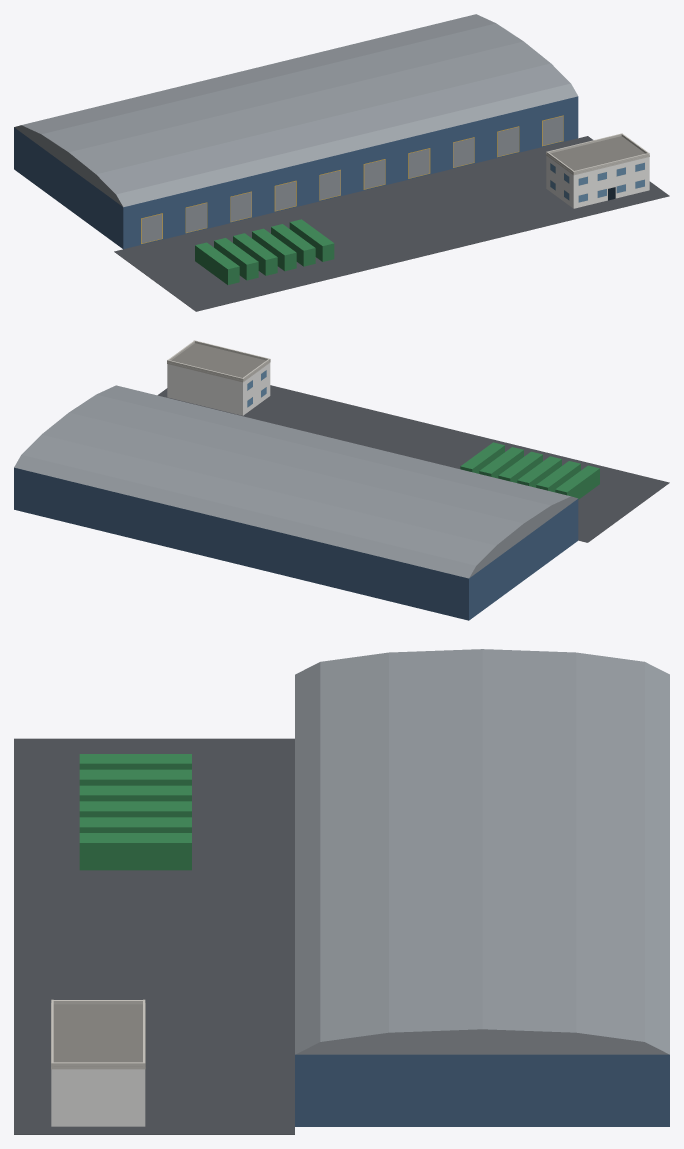
Rendered from depot_bus.glb.
3 views of the same model, one above another, from view 1: azimuth 30°, elevation 25°; view 2: azimuth 150°, elevation 25°; view 3: azimuth 270°, elevation 25° (orthographic). The views are drawn at different scales.
Visible parts, largest first — view 1: depot_bus; view 2: depot_bus; view 3: depot_bus.
Boxes of the visible parts, box(x1,y1,x2,y2) form: depot_bus: box(14, 14, 669, 311); depot_bus: box(14, 340, 669, 620); depot_bus: box(14, 649, 669, 1134).
Bounding box in the file's own units: 100 × 11.5 × 70.
1 material, 1 textured.
